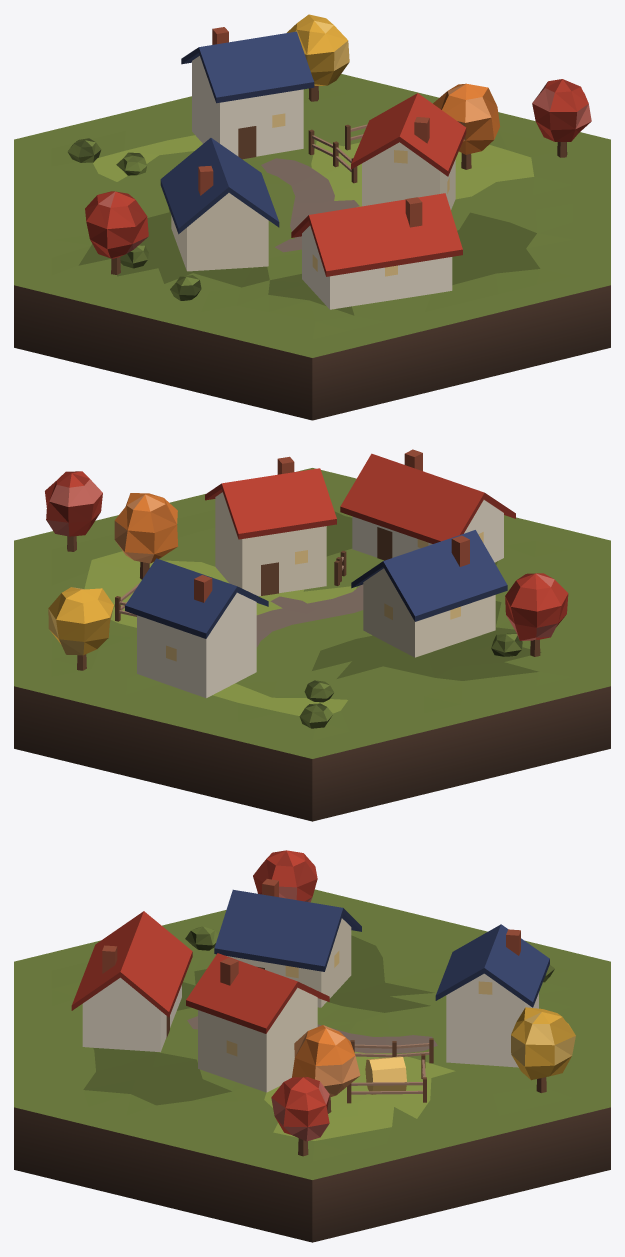
Rendered from SM_Tile_Village_B.fbx.
The picture shows the model from 3 angles, top to bottom: view 1: azimuth 30°, elevation 25°; view 2: azimuth 150°, elevation 25°; view 3: azimuth 270°, elevation 25°; orthographic projection.
Visible parts, largest first — view 1: SM_Tile_Village_B; view 2: SM_Tile_Village_B; view 3: SM_Tile_Village_B.
Boxes of the visible parts, bbox=[...] form: SM_Tile_Village_B: bbox=[14, 14, 610, 420]; SM_Tile_Village_B: bbox=[14, 449, 610, 821]; SM_Tile_Village_B: bbox=[14, 850, 610, 1242].
Size of the model in its own units: 20 by 5.4 by 17.32.
